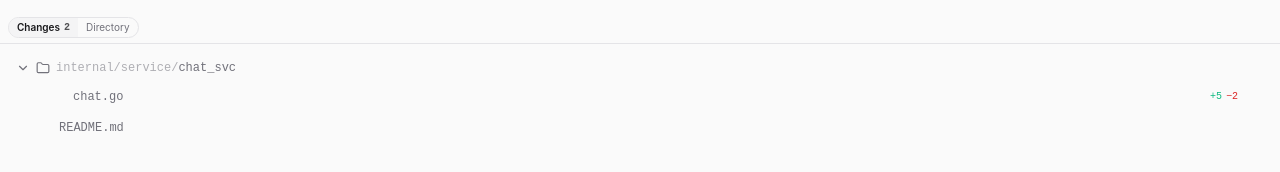
Scenario: FilesPanel mode switcher › persists the selected mode in the sidebar store and restores the changes tree on return
Click the tab "Directory": (108, 28) [78,18,138,37]
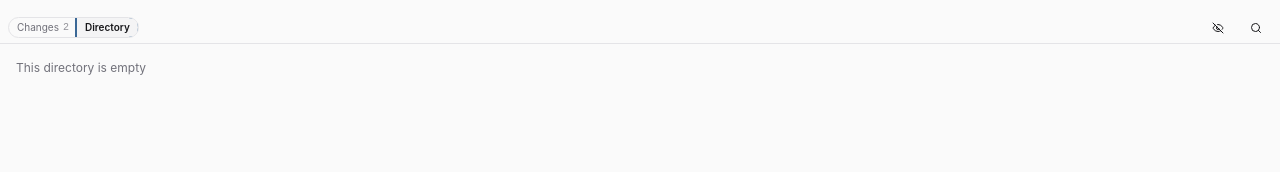
Expected: the button "chat.go" is gone
Click the tab "Changes 2": (43, 28) [9,18,77,37]
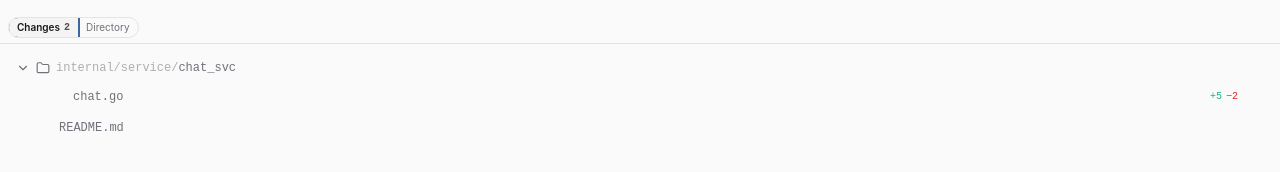
Expected: the button "chat.go +5 −2" is shown, [30,82,1238,111]
